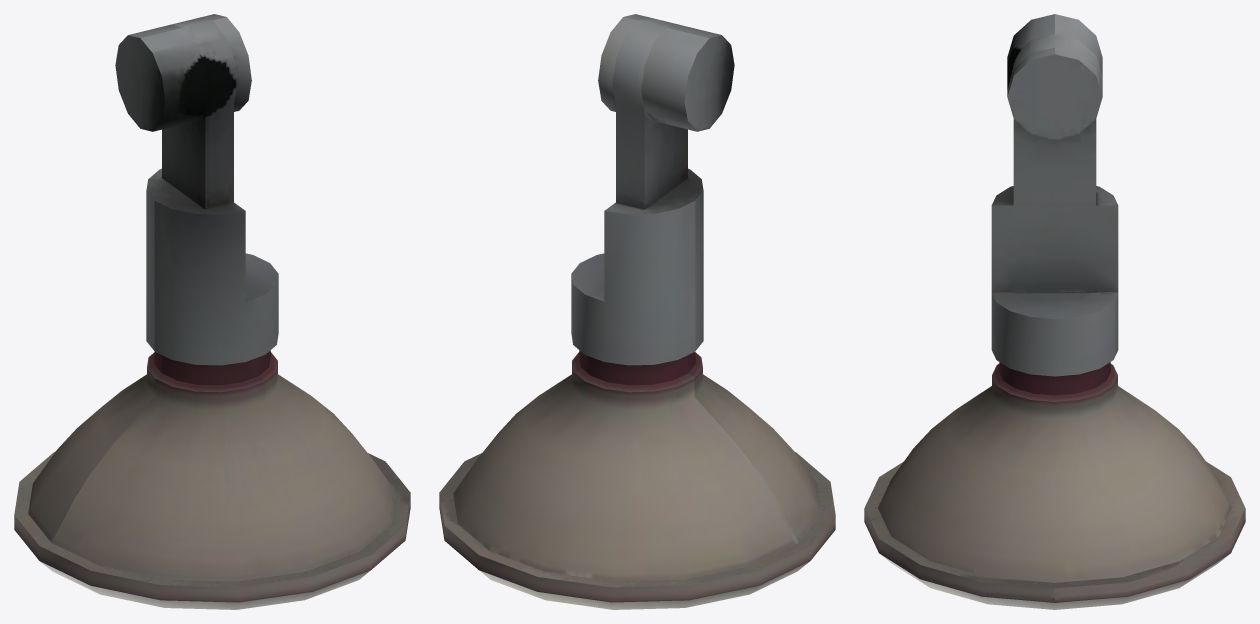
The picture shows the model from 3 angles, left to right: view 1: azimuth 30°, elevation 25°; view 2: azimuth 150°, elevation 25°; view 3: azimuth 270°, elevation 25°; orthographic projection. The views are drawn at different scales.
Parts seen in each view (by area): view 1: body0_model0_lod0_mesh0; view 2: body0_model0_lod0_mesh0; view 3: body0_model0_lod0_mesh0.
Part boxes in pixels (box(x1,y1,x2,y2)): body0_model0_lod0_mesh0: box(14, 14, 410, 609); body0_model0_lod0_mesh0: box(439, 14, 835, 609); body0_model0_lod0_mesh0: box(864, 14, 1245, 609).
Bounding box in the file's own units: 24 × 35.4 × 24.
1 material, 1 textured.
